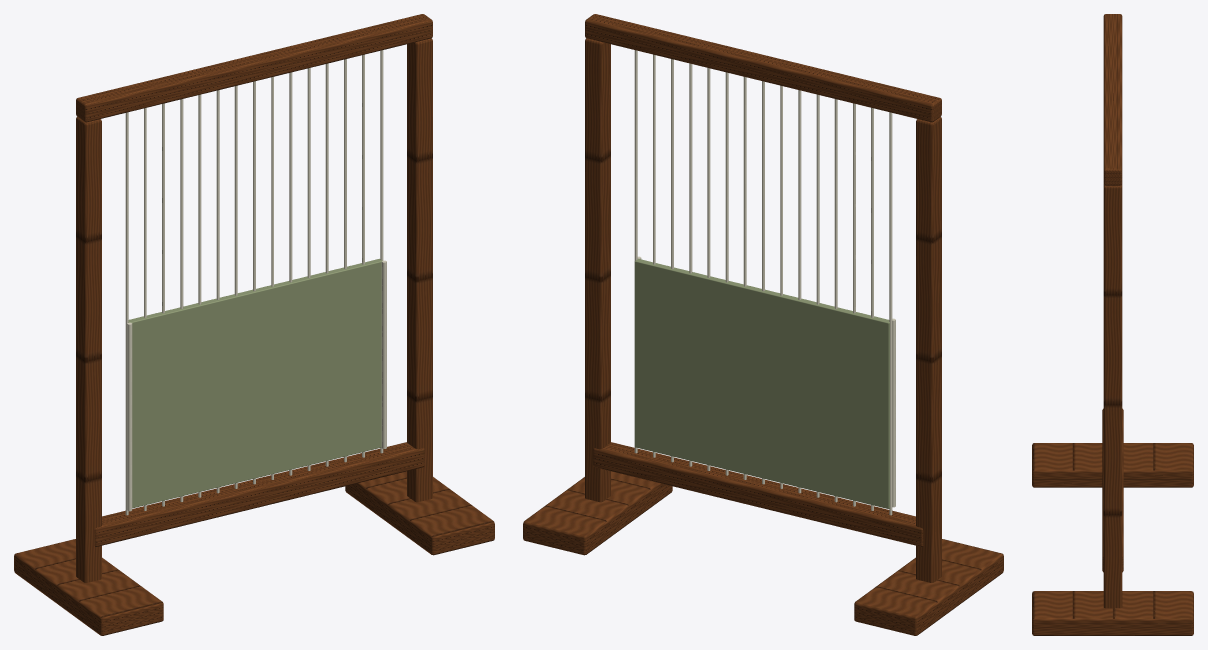
File: primitive-crafting-workshop-upright-loom-1fb169b3__21570.glb
The picture shows the model from 3 angles, left to right: view 1: azimuth 30°, elevation 25°; view 2: azimuth 150°, elevation 25°; view 3: azimuth 270°, elevation 25°; orthographic projection. The views are drawn at different scales.
Parts seen in each view (by area): view 1: upright-loom; view 2: upright-loom; view 3: upright-loom.
Part boxes in pixels (x1,y1,x2,y2): upright-loom: (14,14,494,635); upright-loom: (523,14,1003,635); upright-loom: (1032,14,1193,635).
Bounding box in the file's own units: 1.55 × 1.87 × 0.6.
Materials: 3 (1 with a texture image).
